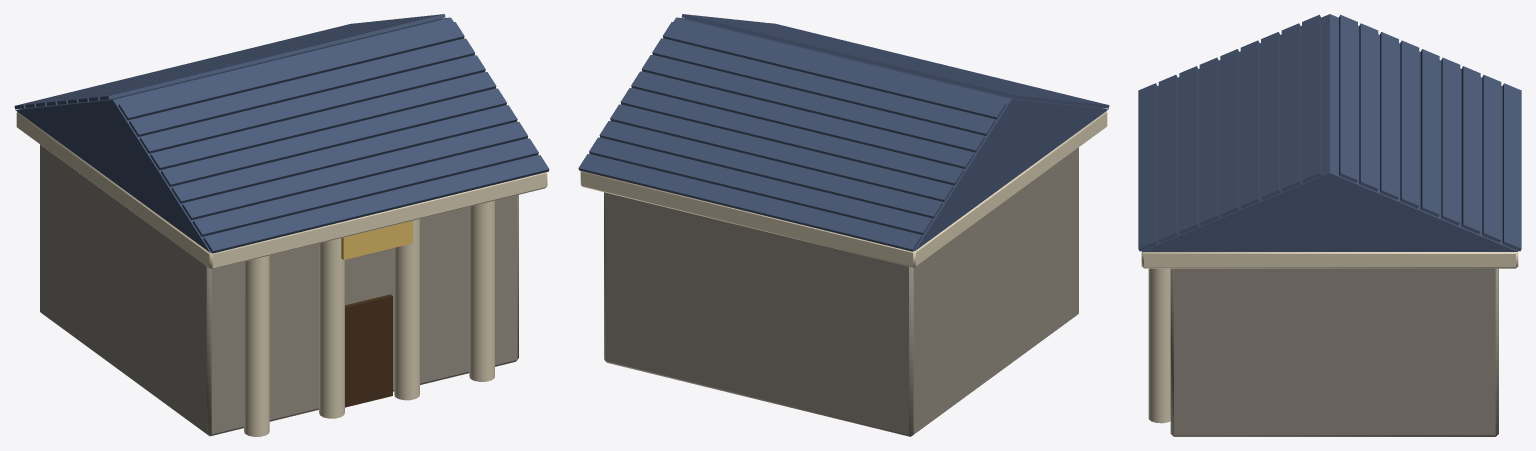
The model's file is archive.glb.
The picture shows the model from 3 angles, left to right: view 1: azimuth 30°, elevation 25°; view 2: azimuth 150°, elevation 25°; view 3: azimuth 270°, elevation 25°; orthographic projection. The views are drawn at different scales.
Parts seen in each view (by area): view 1: building; view 2: building; view 3: building.
Part boxes in pixels (<box>): building: <box>14,14,549,436</box>; building: <box>578,14,1109,436</box>; building: <box>1138,14,1521,436</box>.
Bounding box in the file's own units: 3.9 × 3.1 × 3.97.
